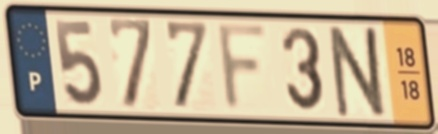3: (279, 25, 326, 116)
5: (51, 17, 105, 108)
7: (107, 16, 157, 114), (164, 17, 212, 114)
F: (214, 20, 272, 116)
N: (326, 23, 391, 122)
